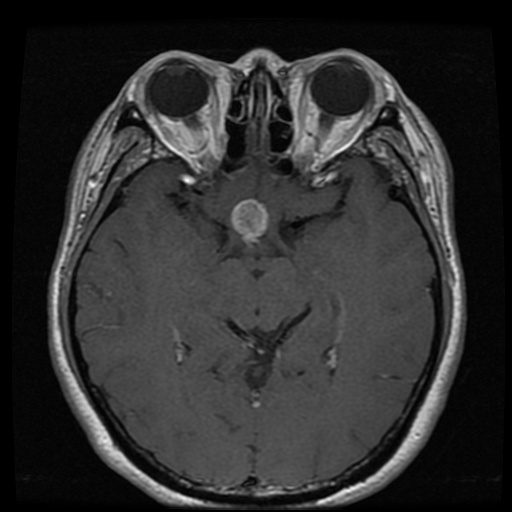pituitary: (231, 197, 267, 244)
